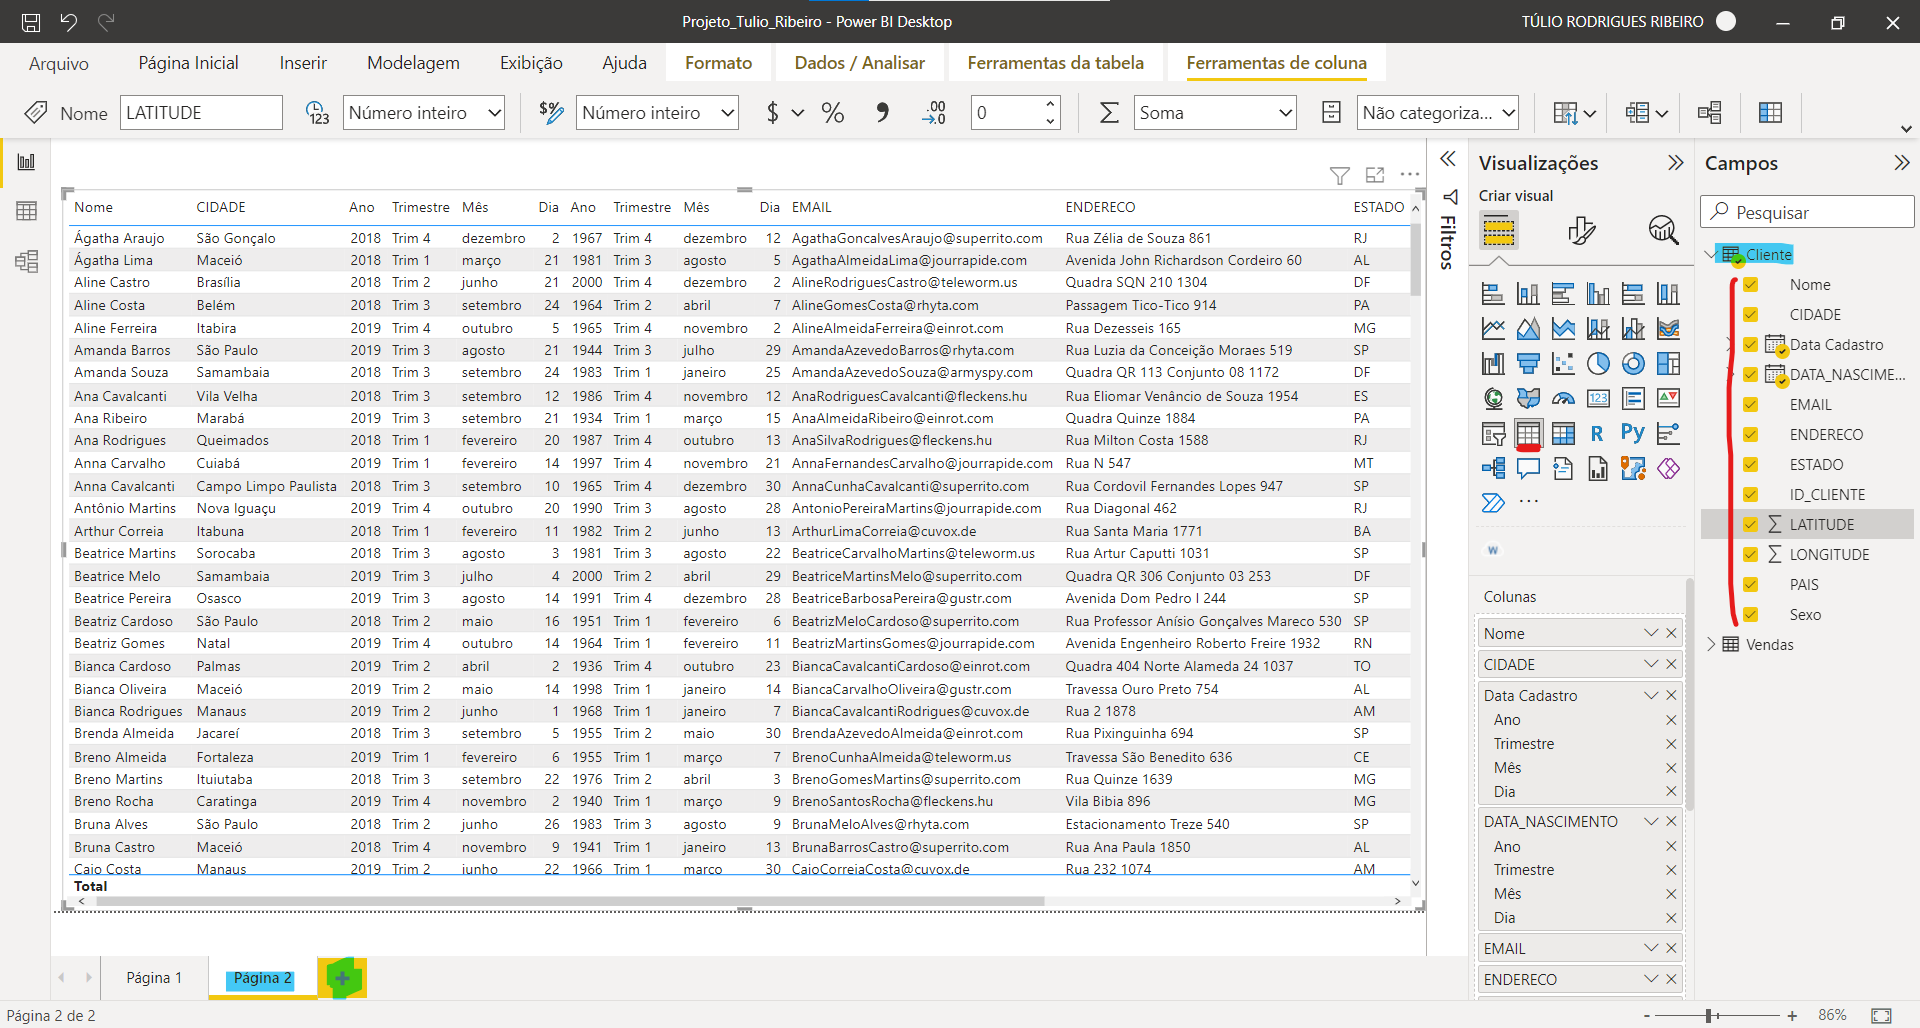

Layout of this report page (visuals, bound fields, positions):
{"tool":"powerbi","page":{"name":"Página 2","canvas":[1280,720],"ordinal":1},"visuals":[{"type":"tableEx","fields":{"Values":["Cliente. Nome","Cliente.Sexo","Cliente.PAIS","Sum(Cliente.LONGITUDE)","Cliente.ID_CLIENTE","Cliente.ESTADO","Cliente.ENDERECO","Cliente.EMAIL","Sum(Cliente.LATITUDE)","Cliente.DATA_NASCIMENTO.Variation.Hierarquia de datas.Ano","Cliente.DATA_NASCIMENTO.Variation.Hierarquia de datas.Trimestre","Cliente.DATA_NASCIMENTO.Variation.Hierarquia de datas.Mês"]},"box":[0,39.8,1279.6,680.2],"z":0},{"type":"actionButton","box":[0,0,100,40],"z":1000}]}

Visuals, with their boxes on the page's 1280x720 design canvas (x1, y1, x2, y2). These are canvas units, not pixel positions in the 1920x1028 screenshot, which may show the page scaled, cropped or inside an application window:
tableEx - Cliente. Nome x Cliente.Sexo: region(0, 40, 1280, 720)
actionButton: region(0, 0, 100, 40)
